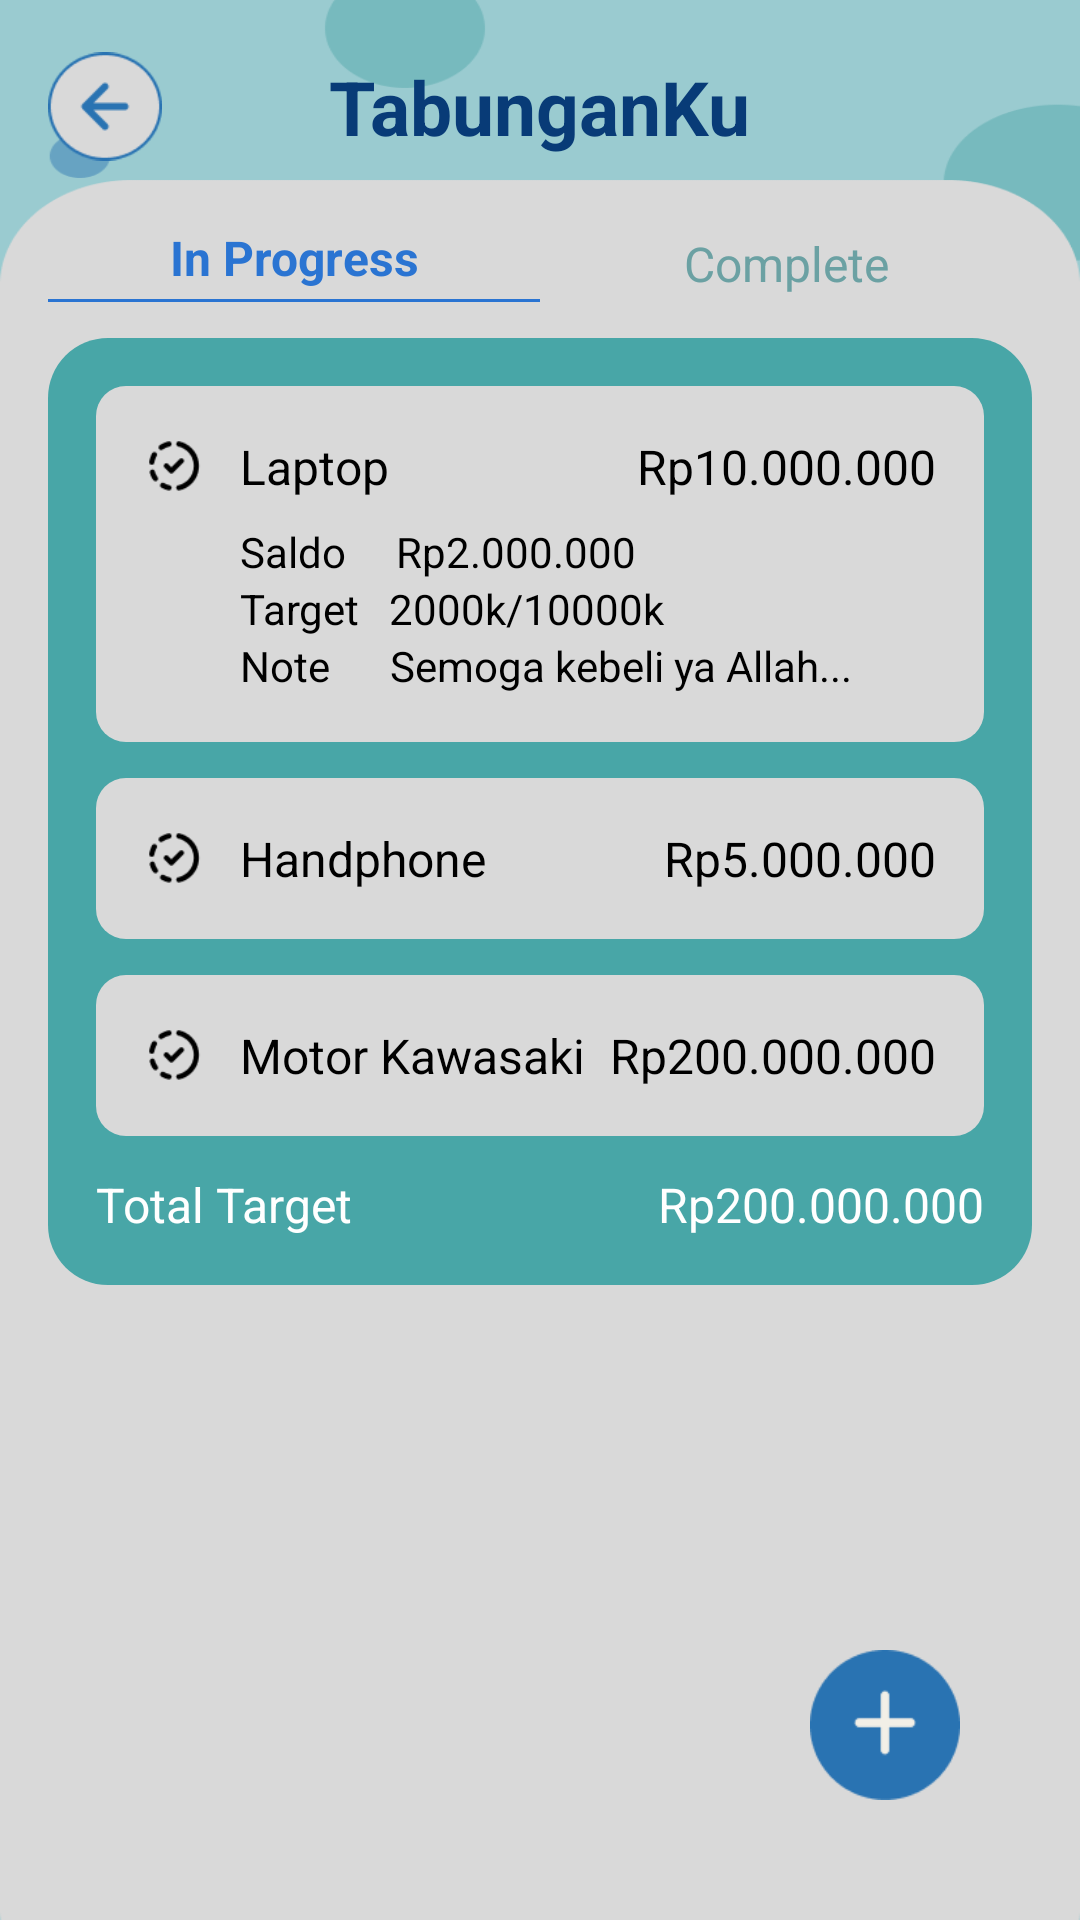

Icons on this 1080w x 1920h Android screen, each with the point to tap as (x,y):
Add: (885,1725)
tombol back: (105,108)
